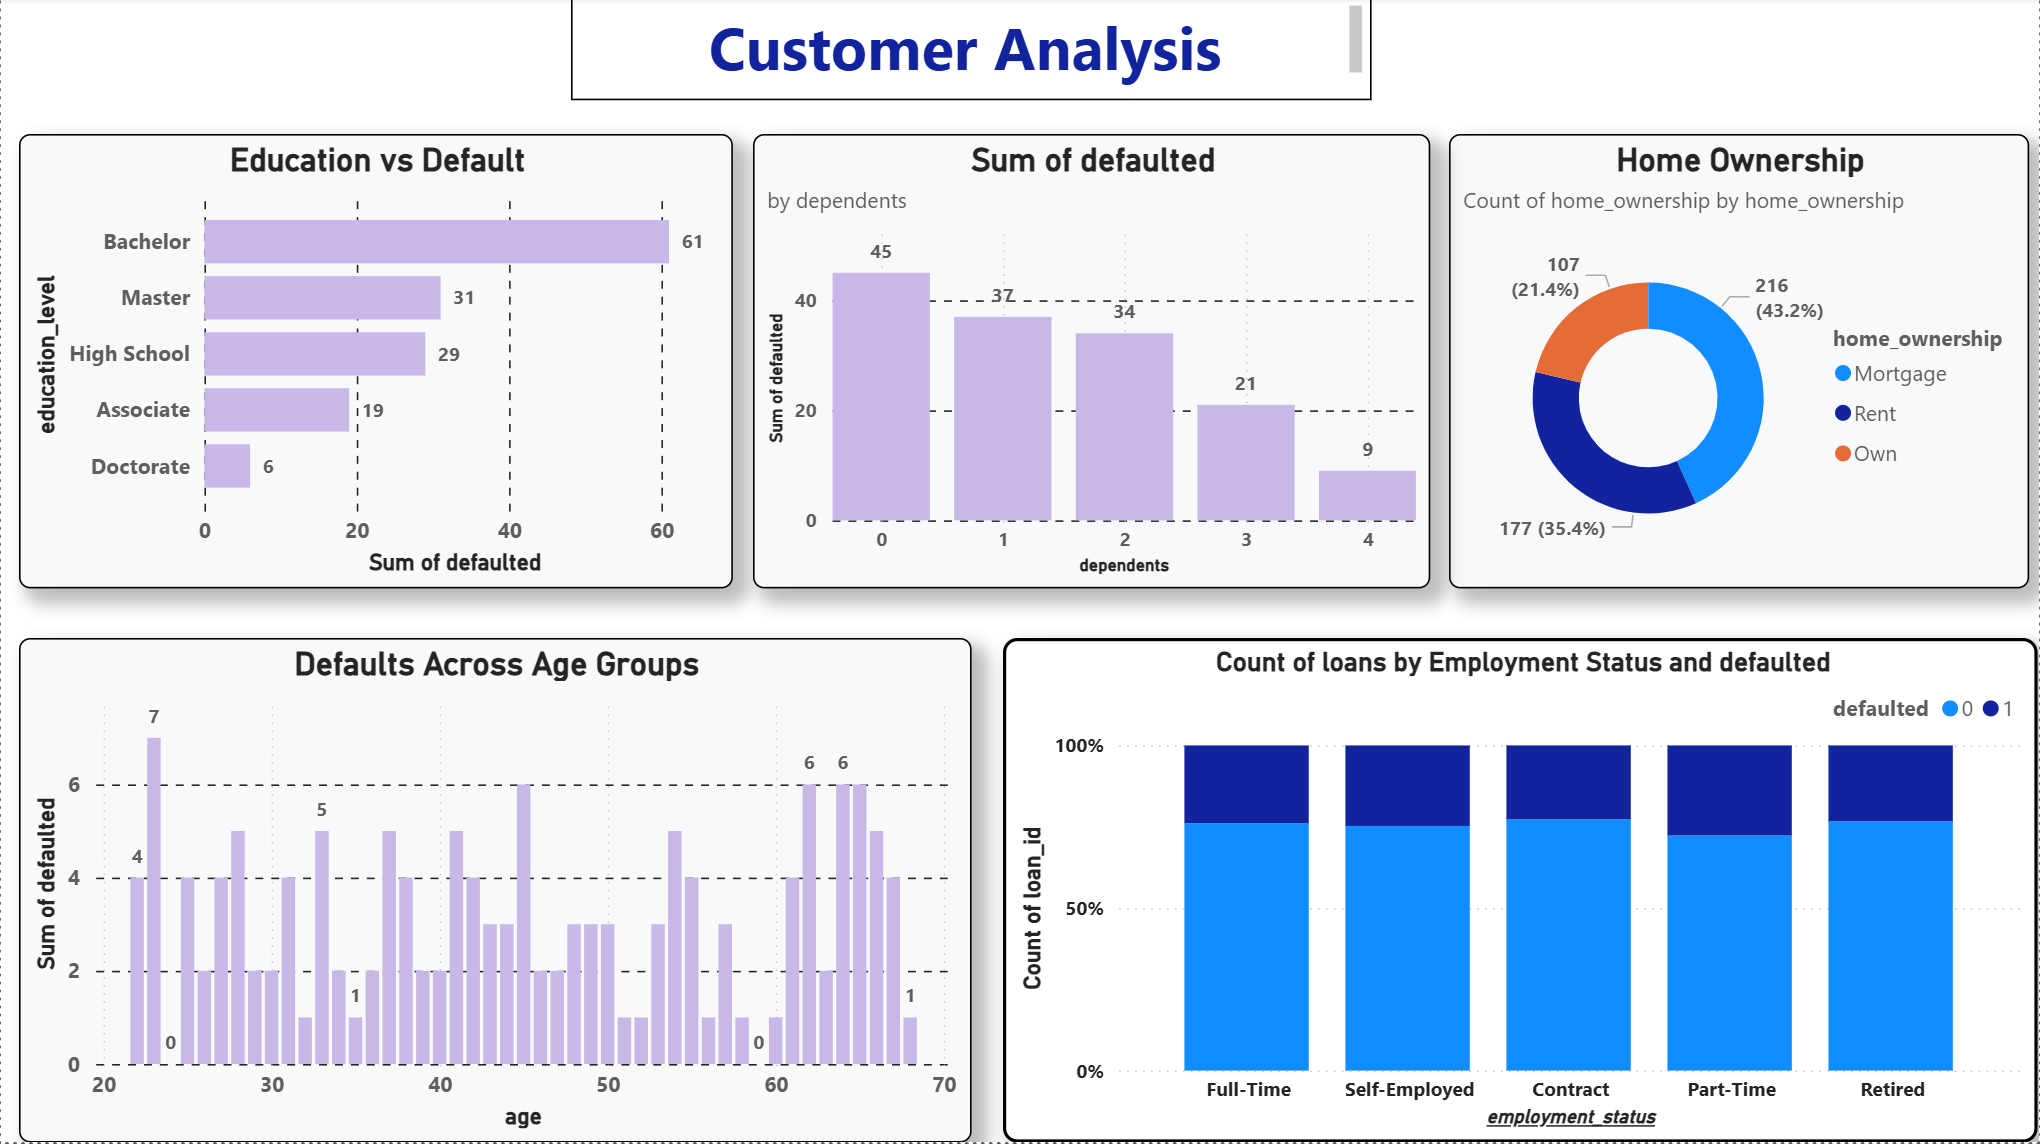

This screenshot's page, from the dashboard's own definition file:
{"tool":"powerbi","page":{"name":"Customer Analysis","canvas":[1280,720],"ordinal":1},"visuals":[{"type":"barChart","title":"Education vs Default","fields":{"Category":["borrower_profiles.education_level"],"Y":["Sum(loan_applications.defaulted)"]},"box":[11.4,87.1,448.6,285.7],"z":0},{"type":"textbox","box":[358.6,0,502.9,65.7],"z":1000},{"type":"columnChart","title":"Defaults Across Age Groups","fields":{"Category":["borrower_profiles.age"],"Y":["Sum(loan_applications.defaulted)"]},"box":[11.4,402.9,598.6,317.1],"z":2000},{"type":"hundredPercentStackedColumnChart","title":"Count of loans by Employment Status and defaulted","fields":{"Category":["borrower_profiles.employment_status"],"Y":["CountNonNull(loan_applications.loan_id)"],"Series":["loan_applications.defaulted"]},"box":[630,402.9,650,317.1],"z":3000},{"type":"donutChart","title":"Home Ownership","fields":{"Y":["CountNonNull(borrower_profiles.home_ownership)"],"Category":["borrower_profiles.home_ownership"]},"box":[910,87.1,364.3,285.7],"z":4000},{"type":"columnChart","fields":{"Category":["borrower_profiles.dependents"],"Y":["Sum(loan_applications.defaulted)"]},"box":[472.9,87.1,425.7,285.7],"z":5000}]}

Visuals, with their boxes in screenshot pixels (x1, y1, x2, y2), scaled from the page's 1280x720 canvas onto the 2040x1144 screenshot:
"Education vs Default" barChart: 18 138 733 592
textbox: 572 0 1373 104
"Defaults Across Age Groups" columnChart: 18 640 972 1143
"Count of loans by Employment Status and defaulted" hundredPercentStackedColumnChart: 1004 640 2039 1143
"Home Ownership" donutChart: 1450 138 2031 592
columnChart - borrower_profiles.dependents x Sum(loan_applications.defaulted): 754 138 1432 592
